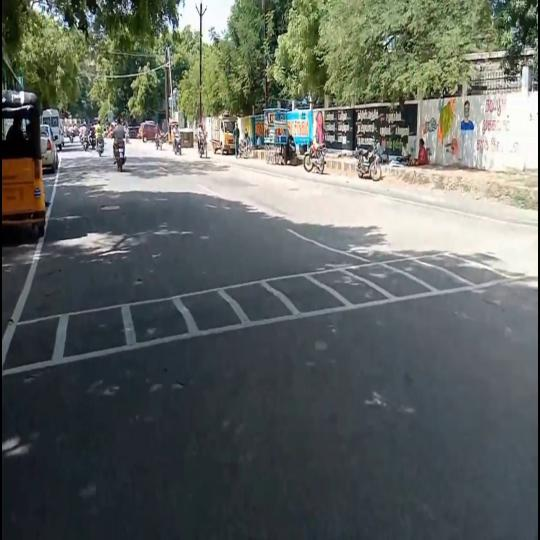Speed Bump: (1, 230, 539, 378)
